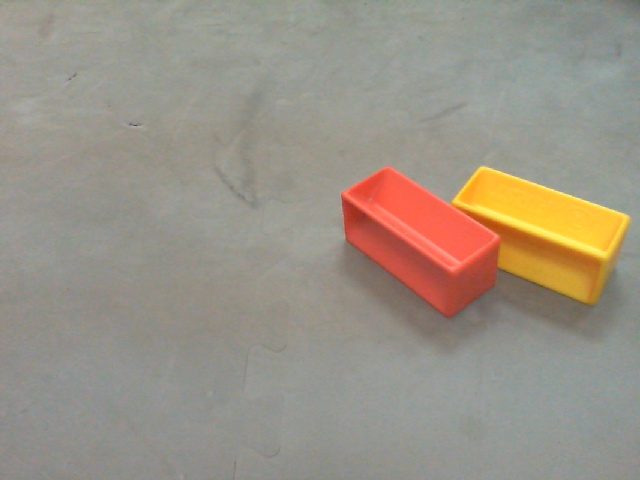RedSample: (341, 165, 504, 315)
YellowSample: (448, 163, 634, 309)
